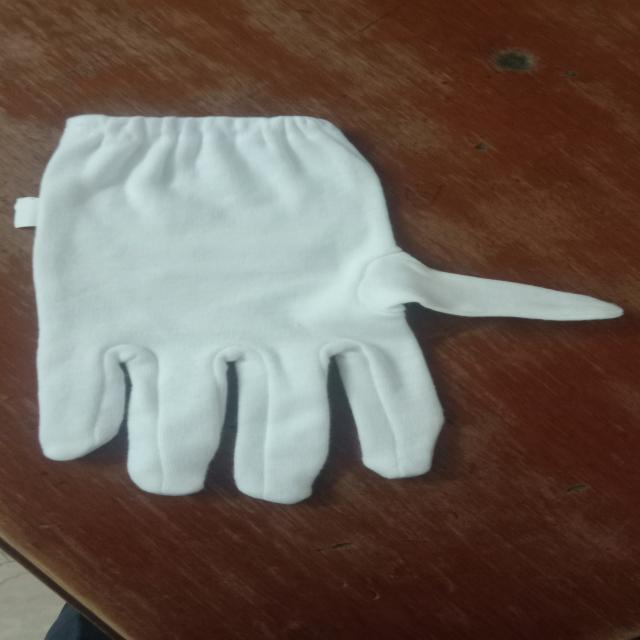glove: (19, 106, 626, 510)
